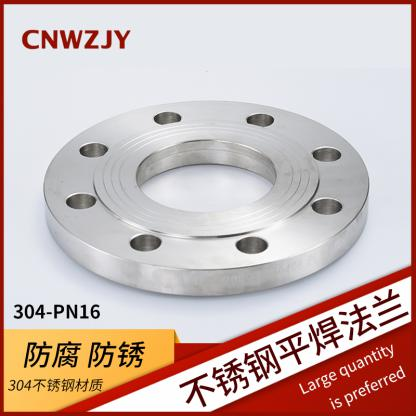FOD: (40, 96, 376, 300)
